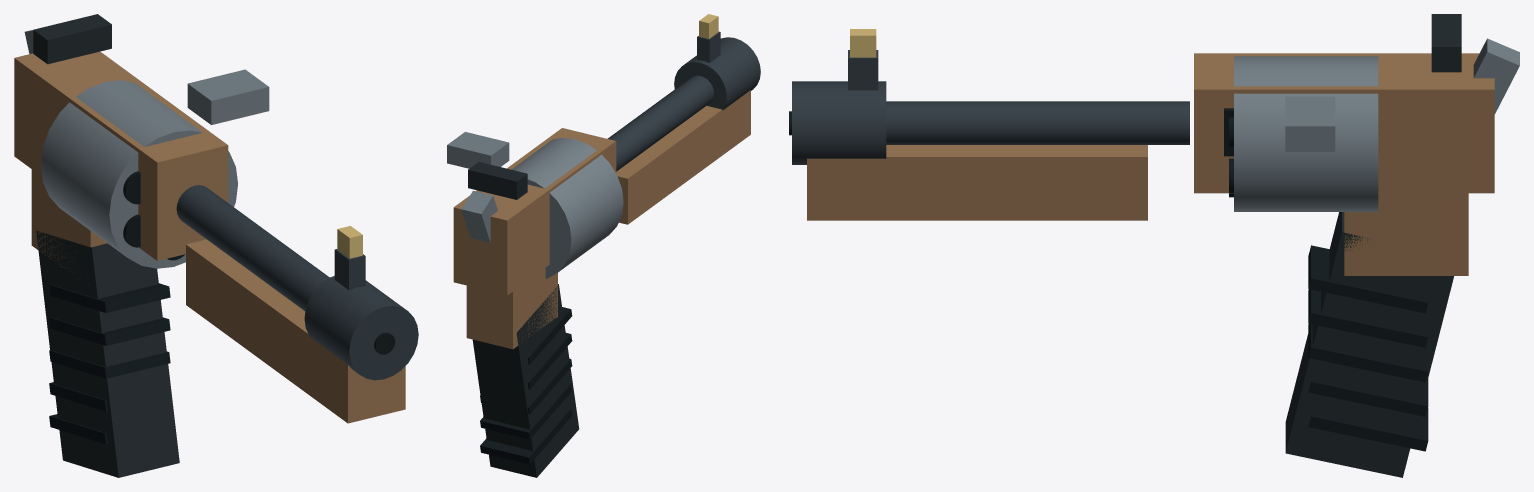
File: pistol_02_revenant.glb
3 views of the same model, side by side, from view 1: azimuth 30°, elevation 25°; view 2: azimuth 150°, elevation 25°; view 3: azimuth 270°, elevation 25° (orthographic). The views are drawn at different scales.
Parts seen in each view (by area): view 1: grip, receiver, revolver_cylinder, barrel_underlug, muzzle_device, barrel, charging_handle, pistol_rear_sight, grip_tang, grip_rib_4, grip_rib_3, grip_rib_2 (+6 smaller); view 2: grip, receiver, revolver_cylinder, barrel_underlug, grip_tang, barrel, muzzle_device, charging_handle, pistol_rear_sight, hammer, grip_rib_0, grip_rib_1 (+5 smaller); view 3: barrel_underlug, receiver, grip, revolver_cylinder, barrel, grip_tang, muzzle_device, charging_handle, grip_rib_4, hammer, pistol_rear_sight, grip_rib_0 (+5 smaller).
Boxes of the visible parts, x1,y1,x2,y2 form: grip: (36, 230, 179, 477); receiver: (14, 51, 228, 260); revolver_cylinder: (40, 80, 237, 268); barrel_underlug: (186, 239, 405, 423); muzzle_device: (304, 276, 418, 380); barrel: (176, 185, 329, 310); charging_handle: (187, 69, 269, 124); pistol_rear_sight: (33, 14, 111, 64); grip_tang: (31, 169, 107, 279); grip_rib_4: (49, 283, 170, 312); grip_rib_3: (49, 317, 170, 345); grip_rib_2: (49, 350, 170, 378); grip: (472, 284, 579, 477); receiver: (453, 128, 616, 295); revolver_cylinder: (512, 138, 623, 278); barrel_underlug: (616, 90, 750, 224); grip_tang: (466, 268, 557, 349); barrel: (607, 75, 714, 171); muzzle_device: (674, 37, 760, 110); charging_handle: (447, 132, 509, 168); pistol_rear_sight: (468, 162, 527, 199); hammer: (461, 190, 497, 242); grip_rib_0: (480, 408, 572, 464); grip_rib_1: (480, 383, 572, 439); barrel_underlug: (807, 145, 1147, 220); receiver: (1194, 53, 1494, 193); grip: (1285, 212, 1453, 477); revolver_cylinder: (1234, 56, 1378, 211); barrel: (886, 101, 1189, 144); grip_tang: (1344, 193, 1468, 275); muzzle_device: (792, 81, 886, 164); charging_handle: (1285, 96, 1335, 151); grip_rib_4: (1308, 245, 1428, 313); hammer: (1473, 38, 1519, 114); pistol_rear_sight: (1431, 14, 1461, 72); grip_rib_0: (1308, 408, 1428, 451).
Bounding box in the file's own units: 0.1115 × 0.2376 × 0.3646.
